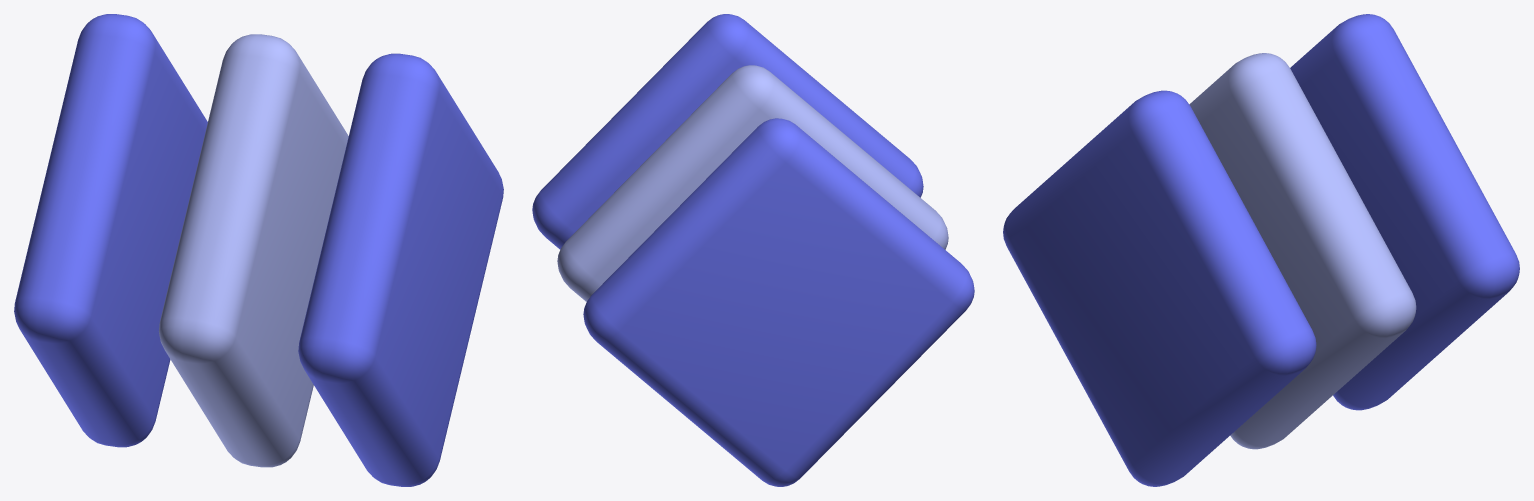
The model's file is triple-plane-loading-animated-3d-icon-1467400969533.glb.
3 views of the same model, side by side, from view 1: azimuth 30°, elevation 25°; view 2: azimuth 150°, elevation 25°; view 3: azimuth 270°, elevation 25° (orthographic). The views are drawn at different scales.
Visible parts, largest first — view 1: Cube.029, Cube.028, Cube.027; view 2: Cube.028, Cube.027, Cube.029; view 3: Cube.029, Cube.028, Cube.027.
Part boxes in pixels (x1,y1,x2,y2): Cube.029: (298,53,503,486); Cube.028: (14,14,207,447); Cube.027: (158,34,348,467); Cube.028: (583,118,974,486); Cube.027: (557,65,948,301); Cube.029: (532,14,923,249); Cube.029: (1003,90,1316,486); Cube.028: (1290,14,1519,410); Cube.027: (1189,53,1416,449).
Bounding box in the file's own units: 3.27 × 2.67 × 3.23.
